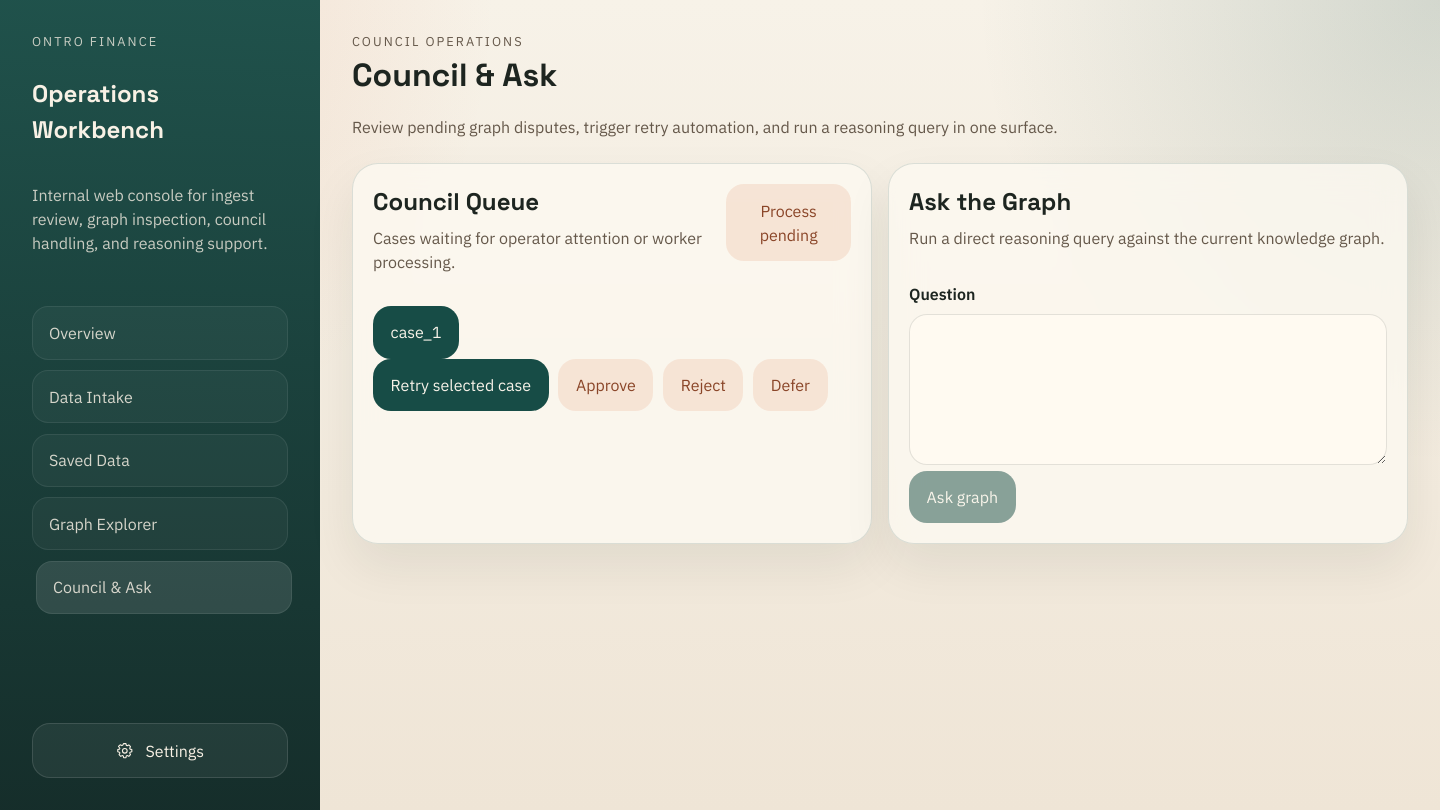
Council and ask › shows cases and renders ask response
Expected: the button "case_1" is shown, [373,306,459,359]
Type "금리와 성장주의 관계는?" into the text box labelled "Question" at (1148, 389), box [909,314,1387,465]
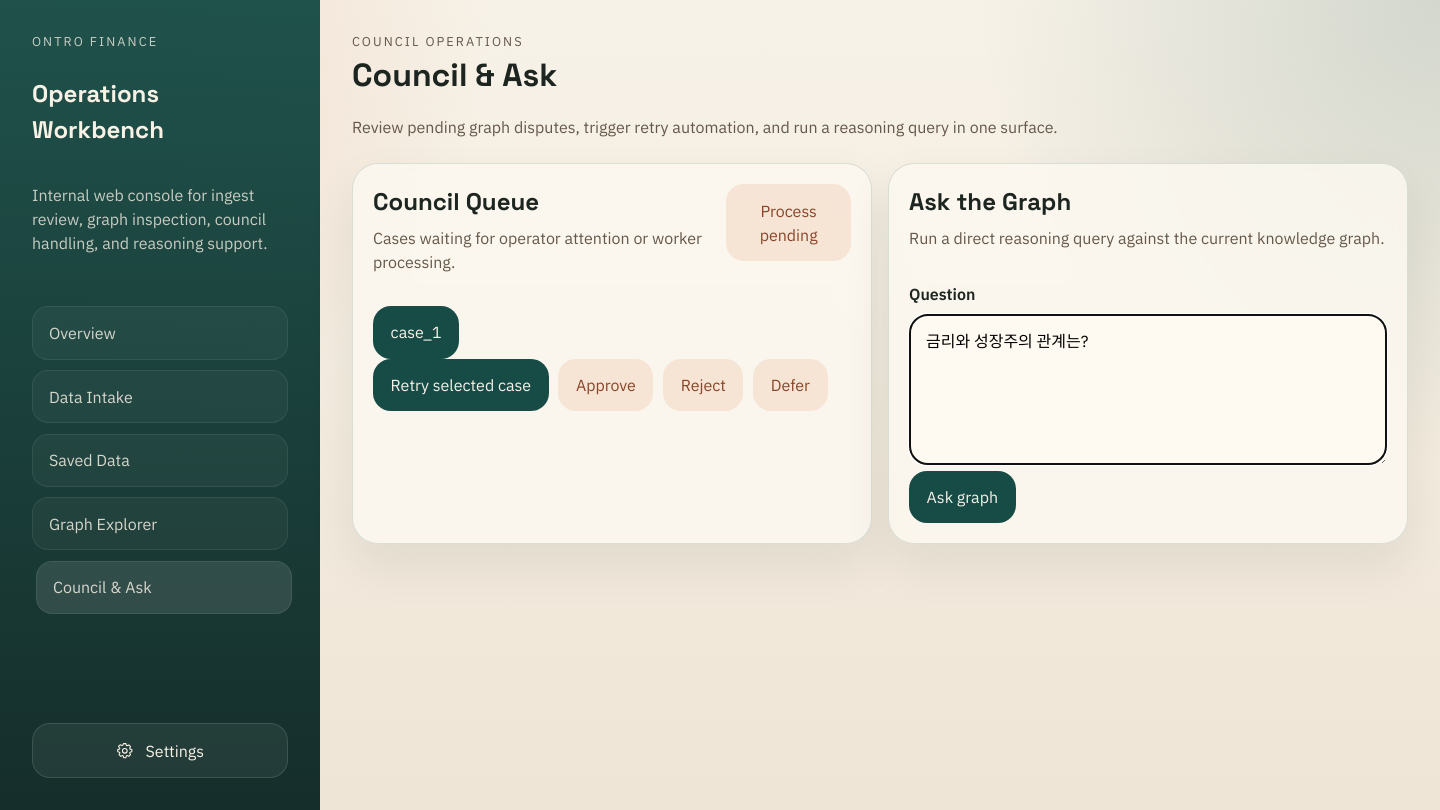
Click the button "Ask graph" at (962, 497), box [909,471,1016,523]
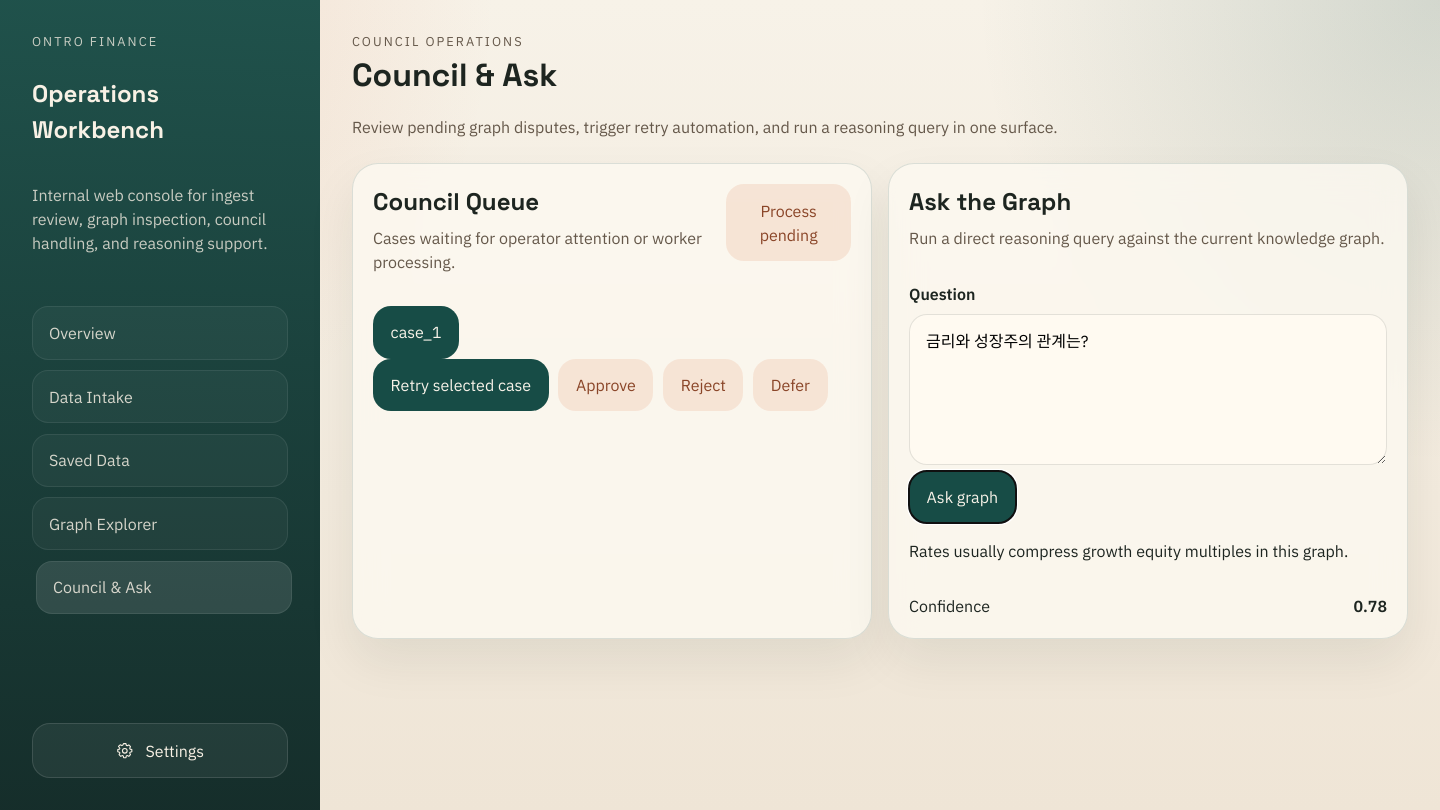
Expected: the text "compress growth equity multiples" is shown, [909,541,1348,561]
Expected: the text "0.78" is shown, [1353,594,1387,618]
